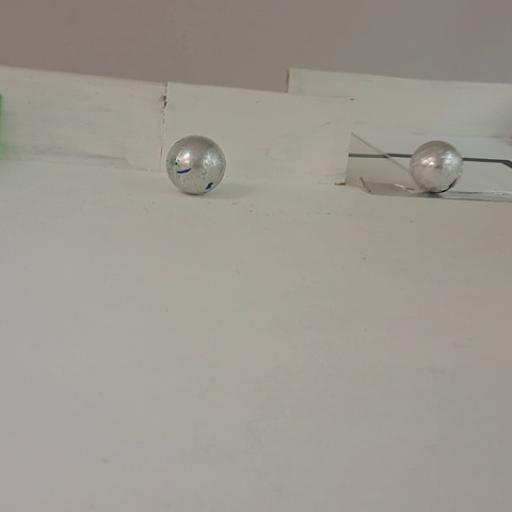alive: (165, 134, 227, 194), (408, 140, 464, 194)
